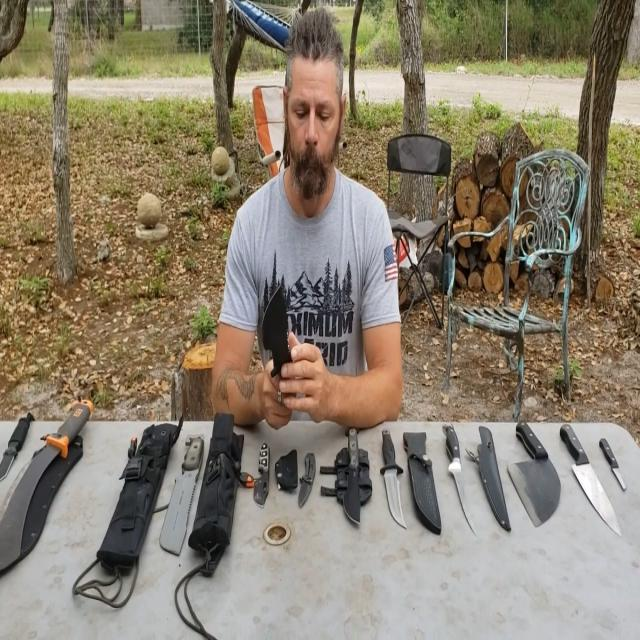knife: (0, 391, 98, 572), (142, 430, 213, 574), (503, 421, 565, 548), (259, 266, 305, 398), (569, 448, 627, 536), (442, 414, 475, 556), (337, 423, 373, 543), (378, 425, 404, 554), (250, 431, 282, 523), (0, 411, 29, 490), (297, 438, 319, 512)
